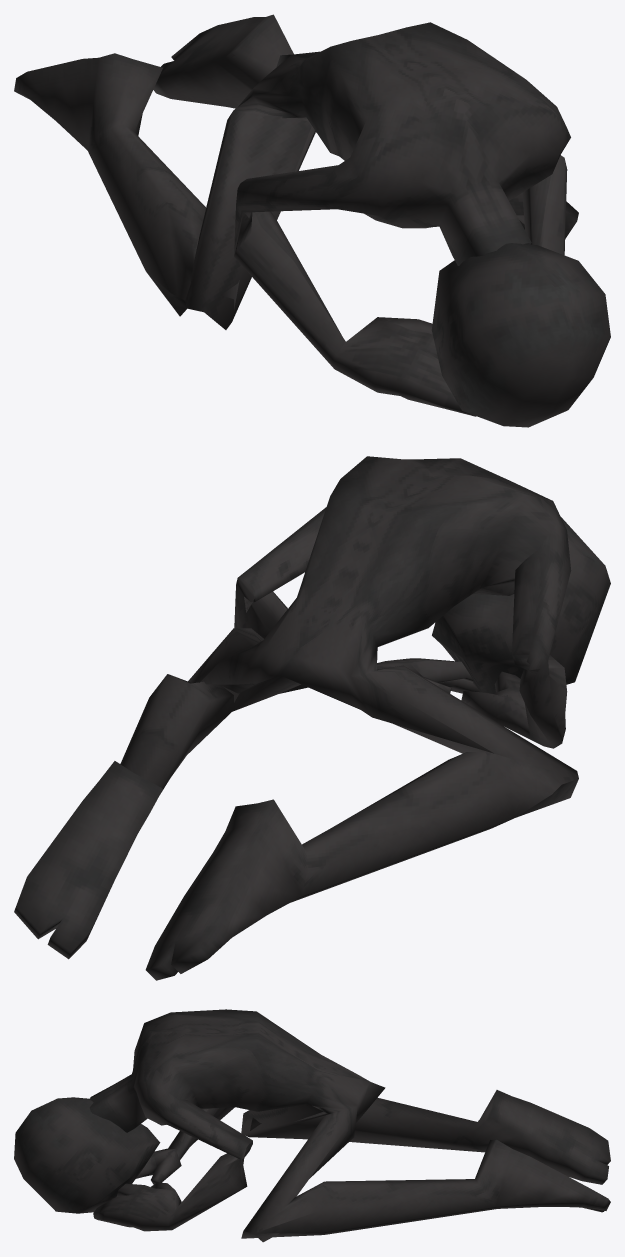
Rendered from GhostMainBody003.fbx.
The picture shows the model from 3 angles, top to bottom: view 1: azimuth 30°, elevation 25°; view 2: azimuth 150°, elevation 25°; view 3: azimuth 270°, elevation 25°; orthographic projection. The views are drawn at different scales.
Visible parts, largest first — view 1: Ghoul Body.009, Ghoul Head.004; view 2: Ghoul Body.009, Ghoul Head.004; view 3: Ghoul Body.009, Ghoul Head.004.
Boxes of the visible parts, x1=… form: Ghoul Body.009: x1=14, y1=14, x2=578, y2=416; Ghoul Head.004: x1=431, y1=243, x2=610, y2=427; Ghoul Body.009: x1=14, y1=456, x2=578, y2=980; Ghoul Head.004: x1=432, y1=517, x2=610, y2=693; Ghoul Body.009: x1=89, y1=1009, x2=610, y2=1242; Ghoul Head.004: x1=14, y1=1097, x2=160, y2=1213.
Bounding box in the file's own units: 309 × 216 × 631.
